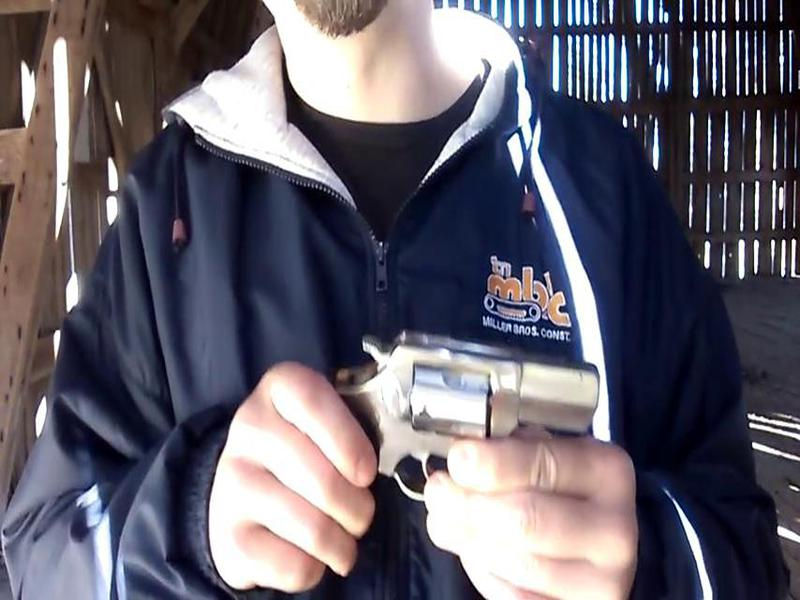Revolver: (299, 311, 633, 514)
